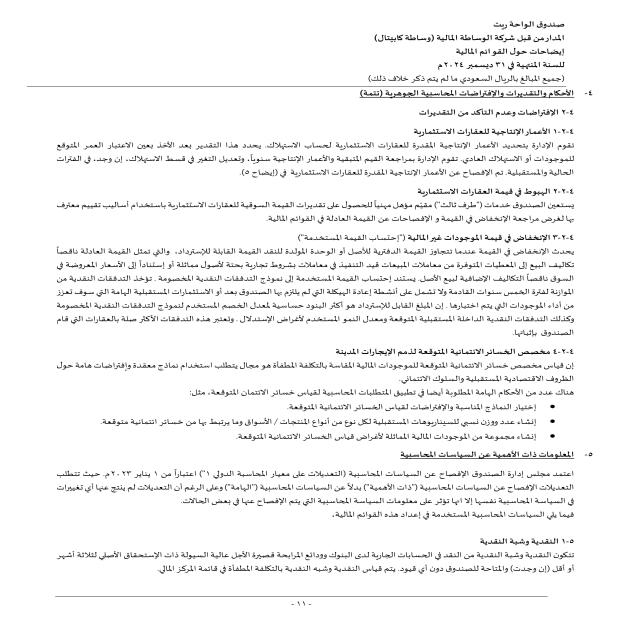notes: (434, 44, 584, 60)
text: (17, 82, 596, 589)
